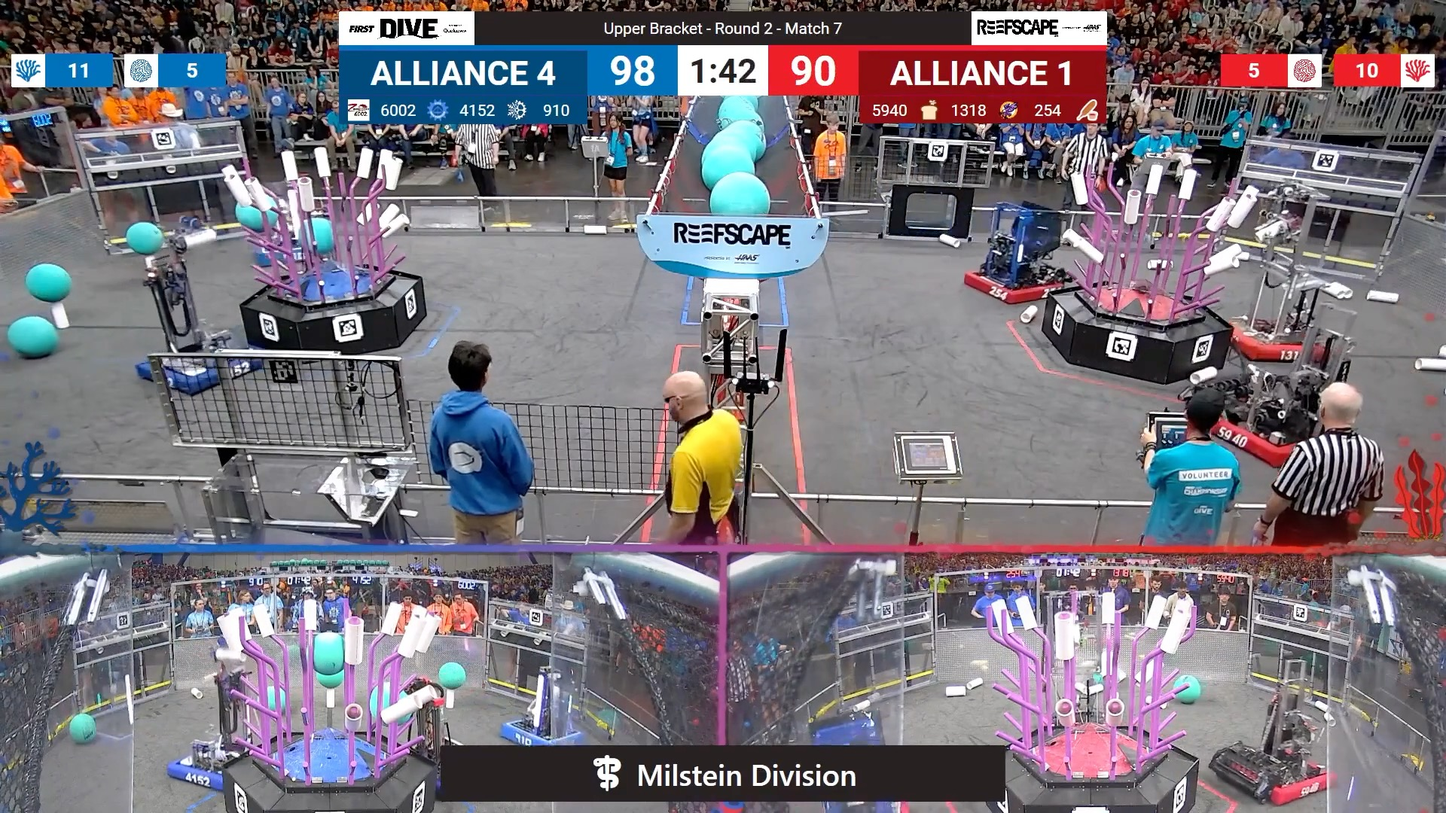bumpers: (1201, 401, 1344, 472), (1209, 747, 1340, 808), (135, 343, 266, 395), (1221, 321, 1332, 368), (961, 263, 1071, 307), (164, 739, 250, 789), (494, 716, 585, 748)
